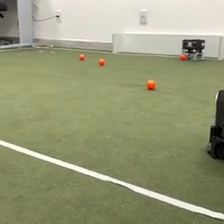ball: (145, 78, 156, 90), (78, 52, 86, 61), (180, 52, 187, 60), (98, 57, 105, 65)
goal: (110, 30, 224, 62)
robot: (205, 87, 224, 162), (181, 36, 206, 61)
